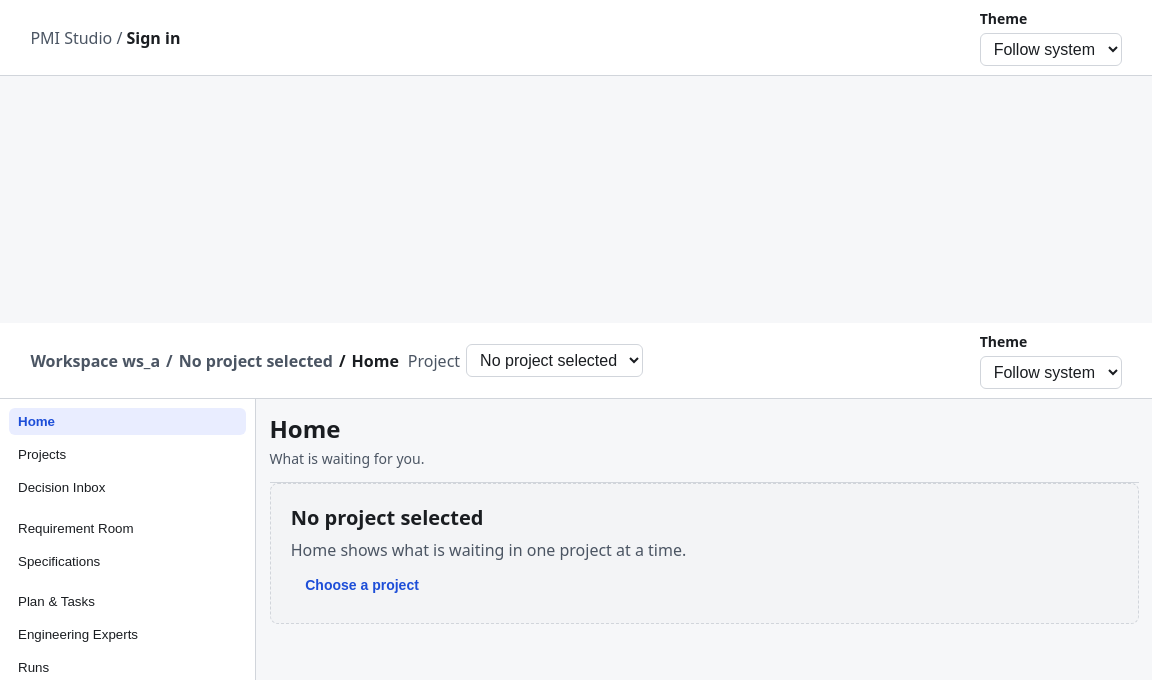
Test case: T439g · the four states are distinguishable › states the partial case once, at the top
(page scrolled)
Select "Payments" in the dropdown labelled "Project" at point(555, 360), box [466,344,643,377]
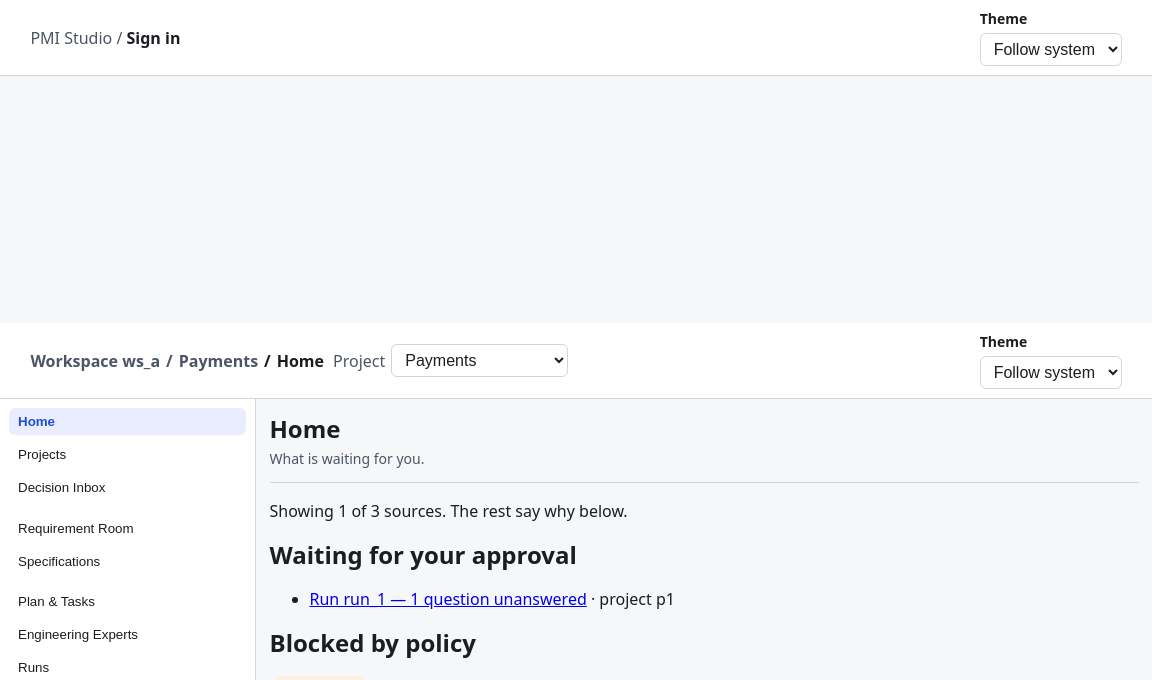
expect the text "Showing 1 of 3 sources. The rest say why below." is shown: met, box [270,500,628,522]
